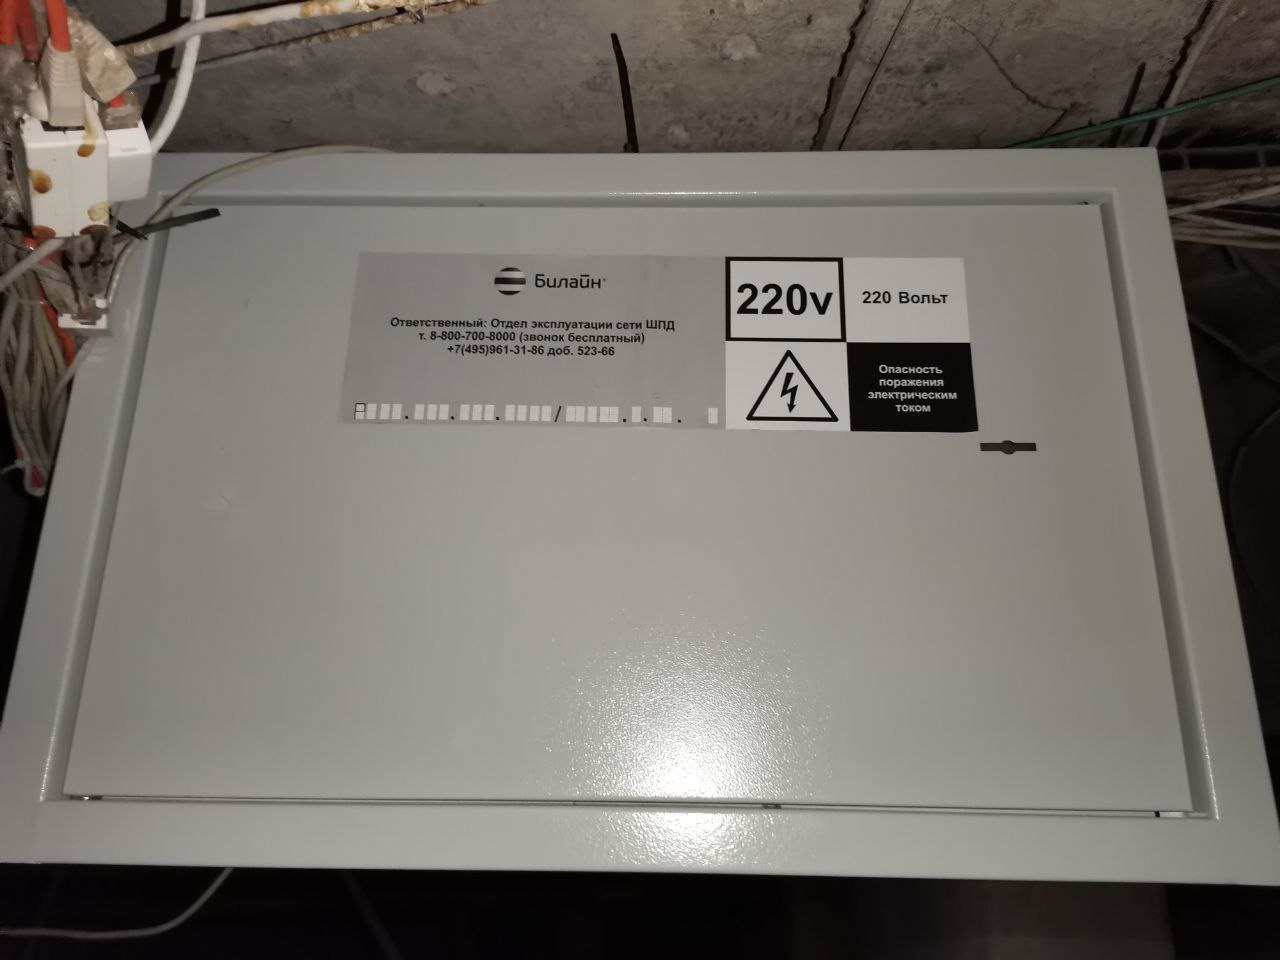shta-7m: (2, 139, 1273, 889)
